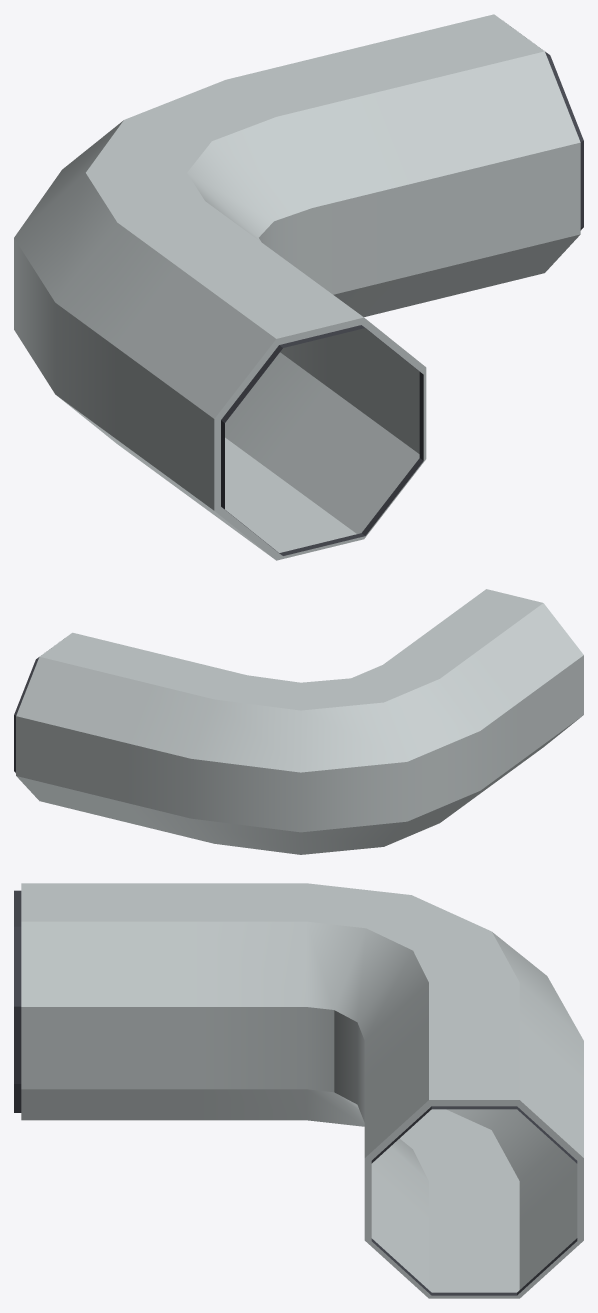
The model's file is Corner_01.fbx.
3 renders of one model, top to bottom at view 1: azimuth 30°, elevation 25°; view 2: azimuth 150°, elevation 25°; view 3: azimuth 270°, elevation 25°, orthographic. The views are drawn at different scales.
Visible parts, largest first — view 1: Corner_01; view 2: Corner_01; view 3: Corner_01.
Boxes of the visible parts, x1,y1,x2,y2 form: Corner_01: [14, 14, 583, 560]; Corner_01: [14, 589, 583, 854]; Corner_01: [14, 883, 583, 1298].
Bounding box in the file's own units: 8000 × 3000 × 7800.
